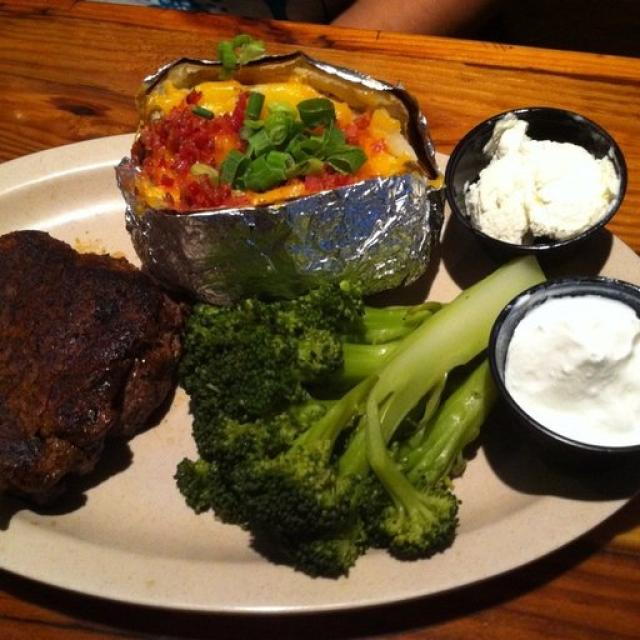Broccoli head: (182, 259, 542, 570)
Yogurt cup: (501, 289, 640, 450), (461, 124, 630, 246)
